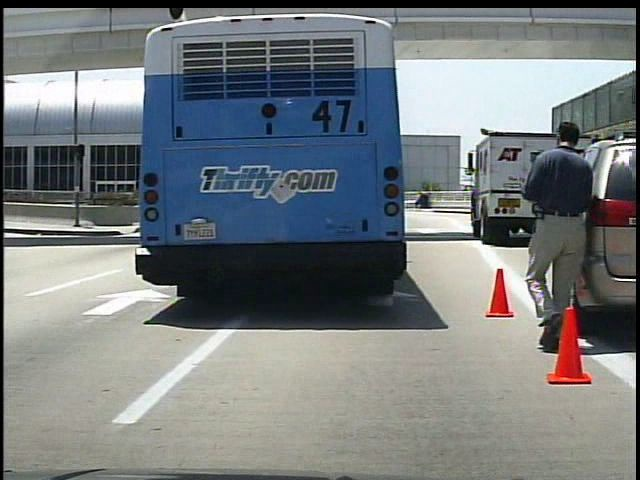person: (521, 118, 600, 356)
